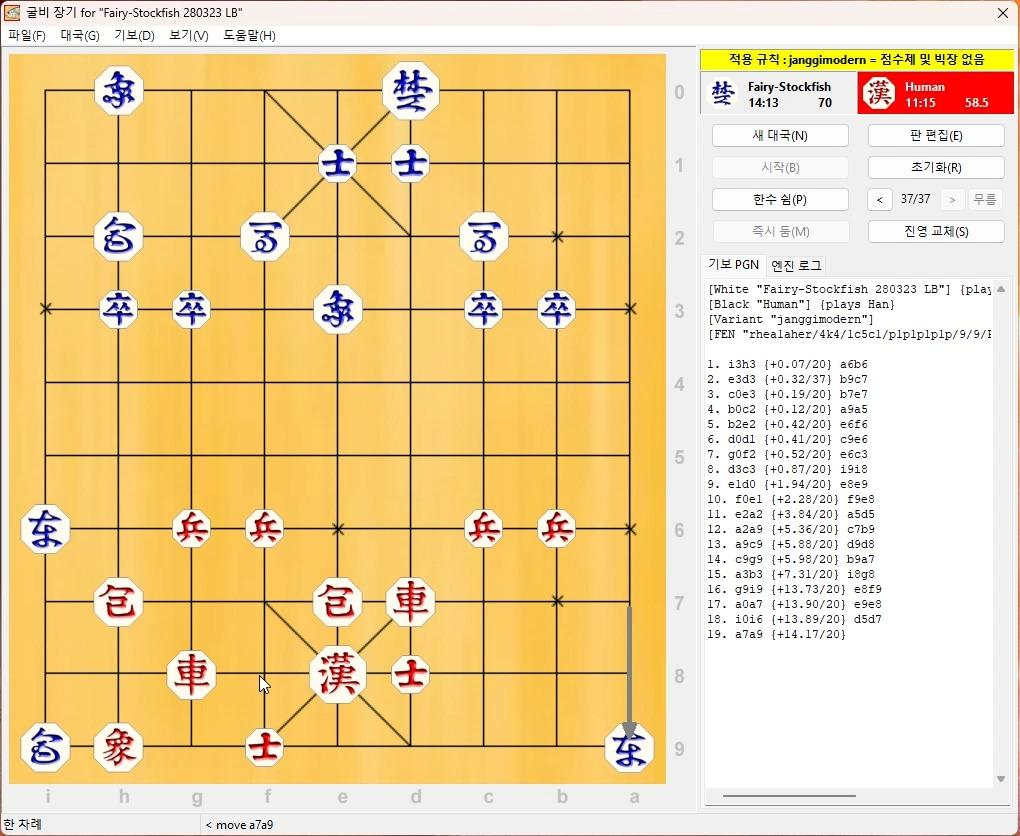cha_green: (19, 503, 70, 556), (606, 727, 654, 770)
cha_red: (165, 652, 216, 698), (387, 580, 437, 625)
jol_green: (171, 292, 210, 328), (466, 293, 504, 329), (98, 293, 137, 328), (537, 293, 576, 328)
jol_red: (243, 511, 288, 547), (537, 508, 577, 548), (465, 509, 504, 547), (172, 511, 210, 548)
ma_green: (239, 211, 289, 263), (459, 214, 507, 260)
po_green: (94, 210, 144, 262), (23, 724, 73, 768)
po_red: (315, 577, 363, 622), (94, 581, 143, 625)
sa_green: (319, 144, 359, 184), (391, 143, 430, 184)
sa_red: (245, 729, 285, 769), (392, 655, 431, 695)
sang_green: (315, 286, 363, 333), (95, 69, 144, 114)
sang_red: (91, 725, 143, 770)
wang_green: (382, 64, 439, 118)
wang_red: (309, 646, 368, 703)
